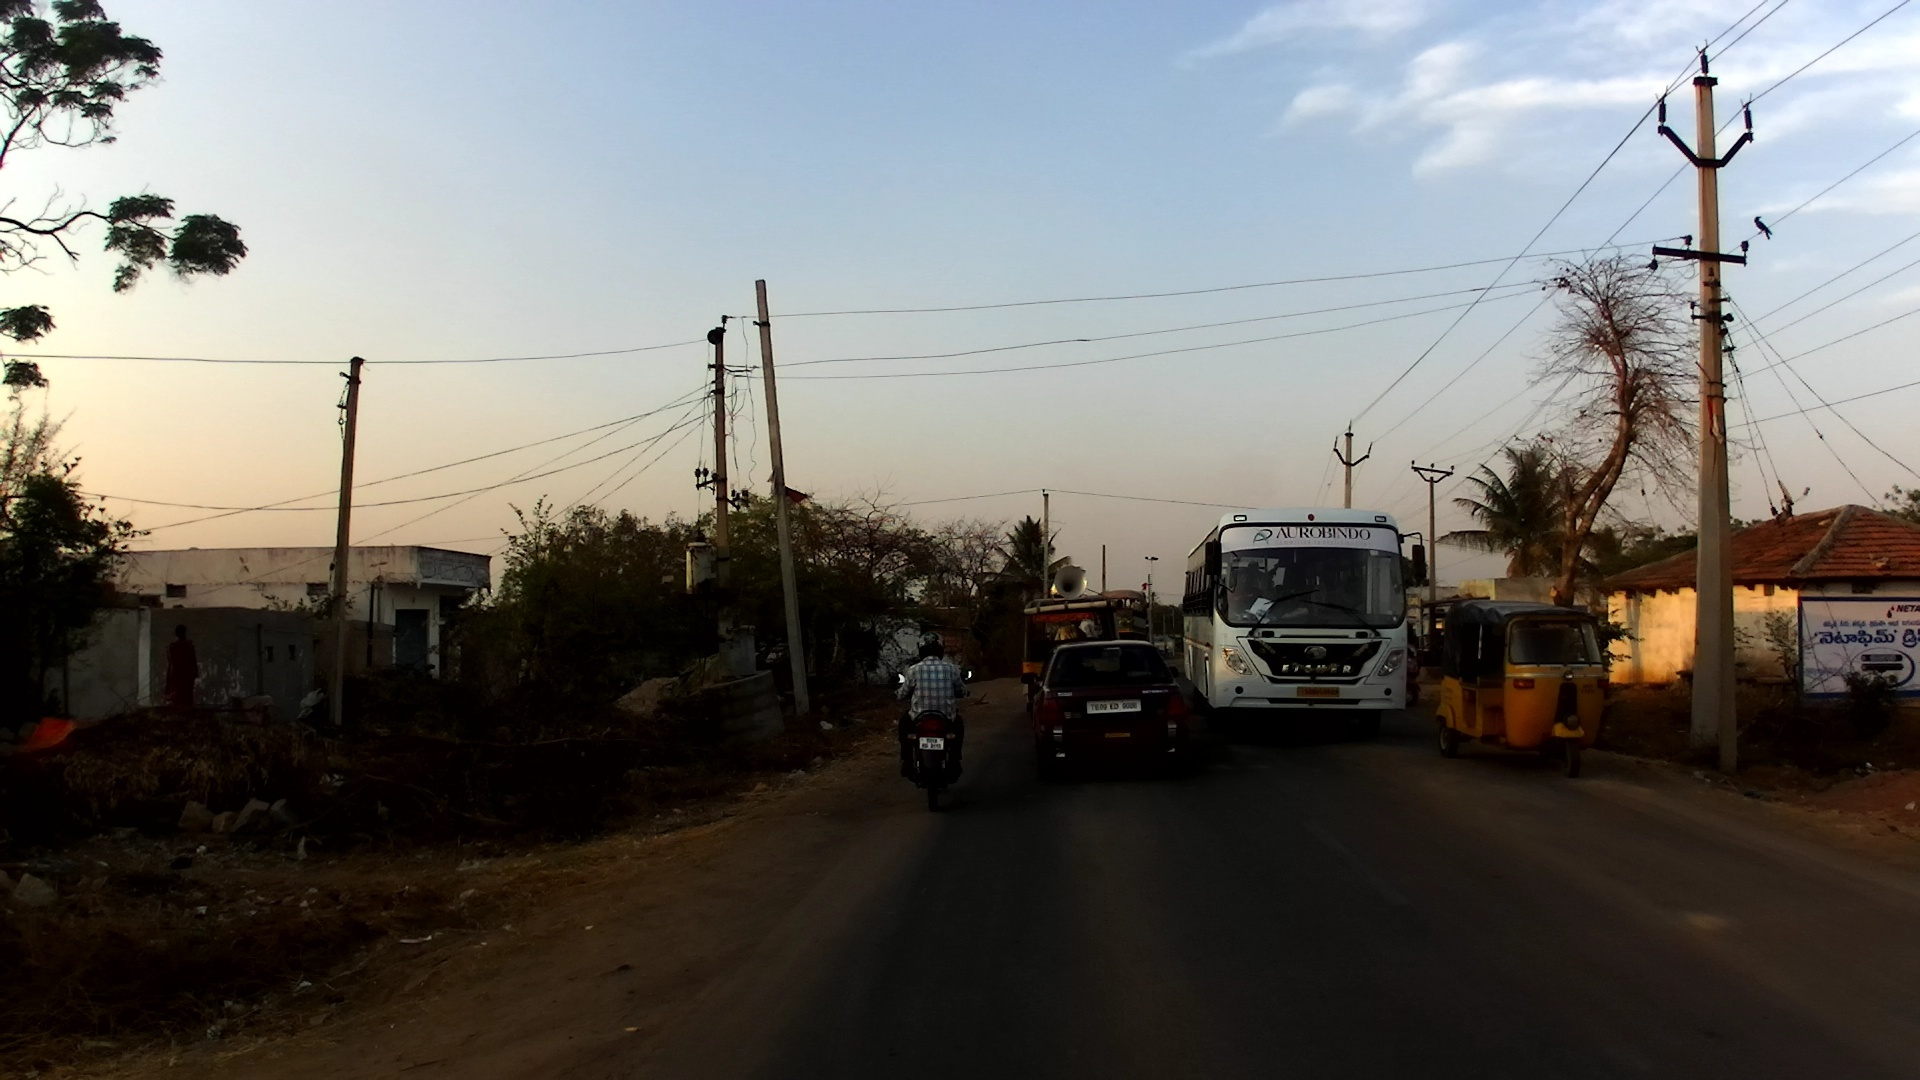autorickshaw: (1438, 598, 1610, 775)
bus: (1183, 510, 1429, 743)
car: (1019, 639, 1195, 789), (1016, 559, 1118, 724), (1152, 633, 1180, 658)
motorcycle: (893, 663, 983, 820)
person: (162, 620, 202, 704)
rider: (896, 630, 976, 778)
vehicle fallback: (1100, 586, 1157, 649), (1403, 641, 1426, 709)
